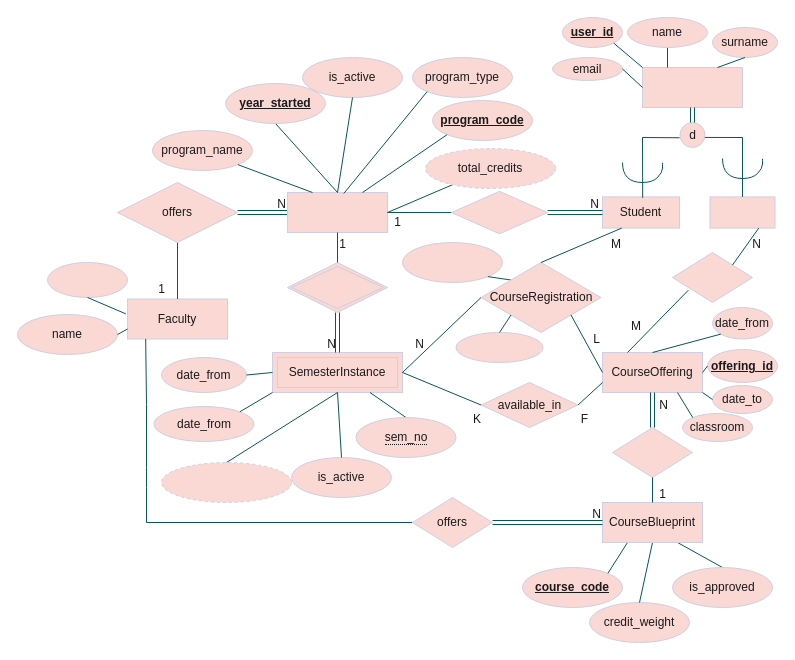
The diagram is 795 pixels wide and 660 high, and some of its shapes have lost their labels. Here are the shapes that lost their labels. From the top down, the centre of each, then its label:
At [692,87]: "User".
At [337,212]: "Study ProgramInstance".
At [499,212]: "accommodates".
At [742,212]: "Professor".
At [87,280]: "code".
At [452,262]: "is_compulsory".
At [712,277]: "teaches".
At [337,287]: "includes".
At [499,347]: "reg_date".
At [652,452]: "instantiates".
At [226,482]: "compulsory_credits".
